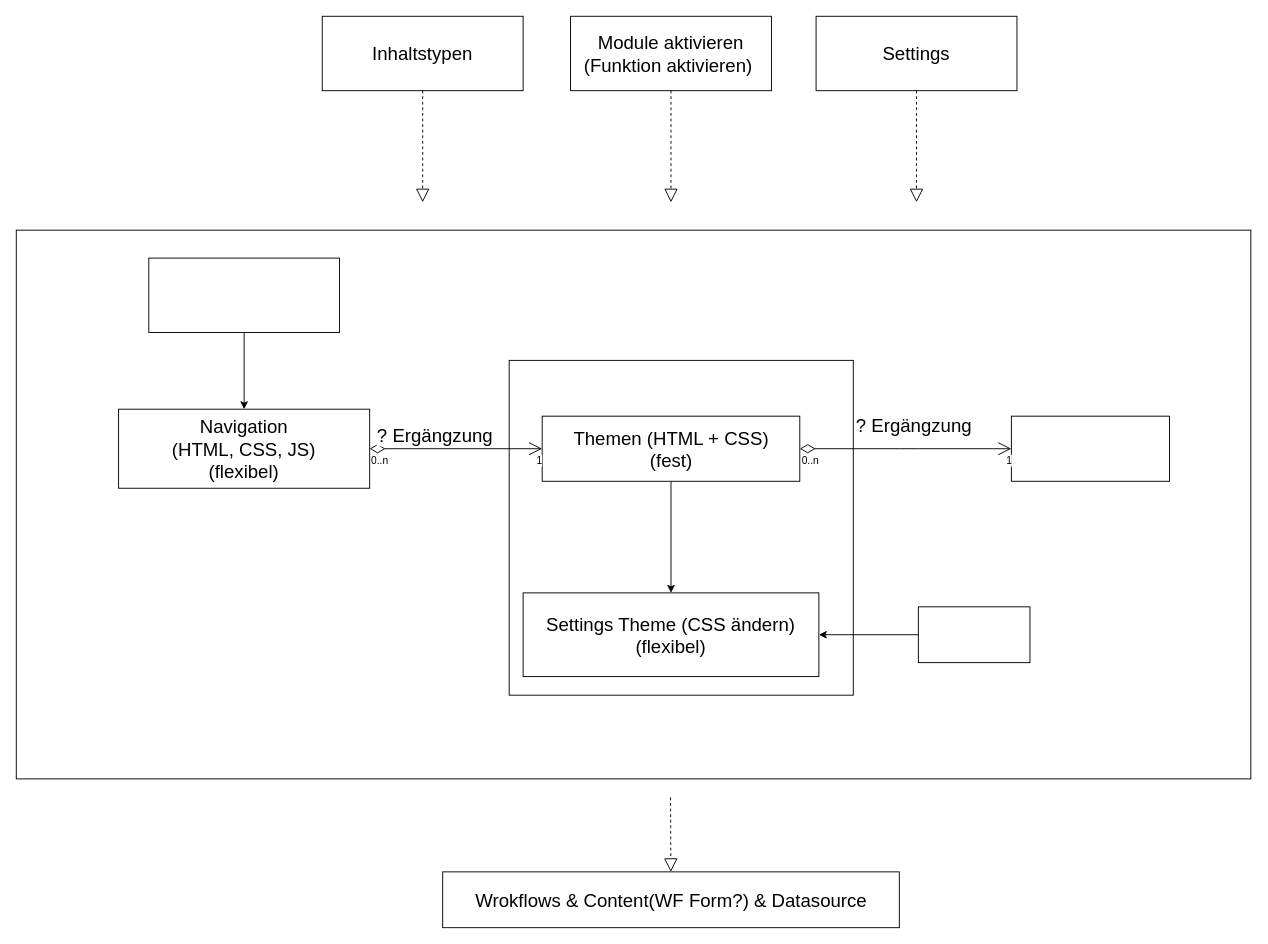
Image size: 1268x944. Some labels were removed from this diagram. The centre of each missing label's shape, as x and y in pixels:
"Content (Inhalt) (HTML, CSS, JS) (Pages?)" belongs at point (243, 294).
"Media" belongs at point (973, 634).
"Widgets (HTML) (flexibel)" belongs at point (1089, 448).
